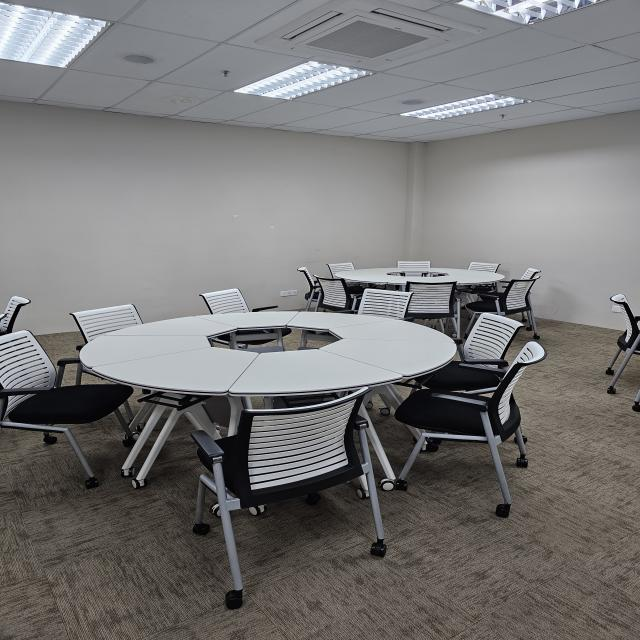obstacle: (0, 284, 551, 608), (600, 291, 638, 396)
